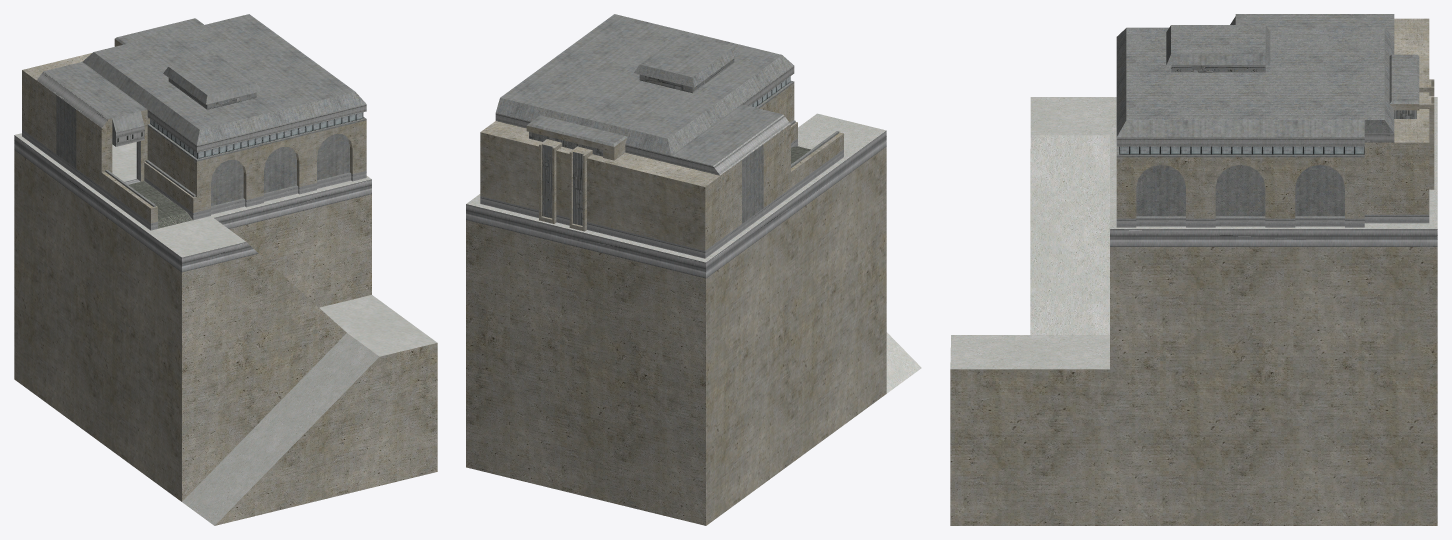
Rendered from ply_all_house_sm_s01_fp2_r0_exterior_mesh_l0.fbx.
The picture shows the model from 3 angles, left to right: view 1: azimuth 30°, elevation 25°; view 2: azimuth 150°, elevation 25°; view 3: azimuth 270°, elevation 25°; orthographic projection. The views are drawn at different scales.
Visible parts, largest first — view 1: mesh_node; view 2: mesh_node; view 3: mesh_node.
Boxes of the visible parts, left/top/right/bottom form: mesh_node: left=14, top=14, right=437, bottom=525; mesh_node: left=466, top=14, right=921, bottom=525; mesh_node: left=950, top=14, right=1437, bottom=525.
Bounding box in the file's own units: 15.74 × 23.24 × 24.55.
